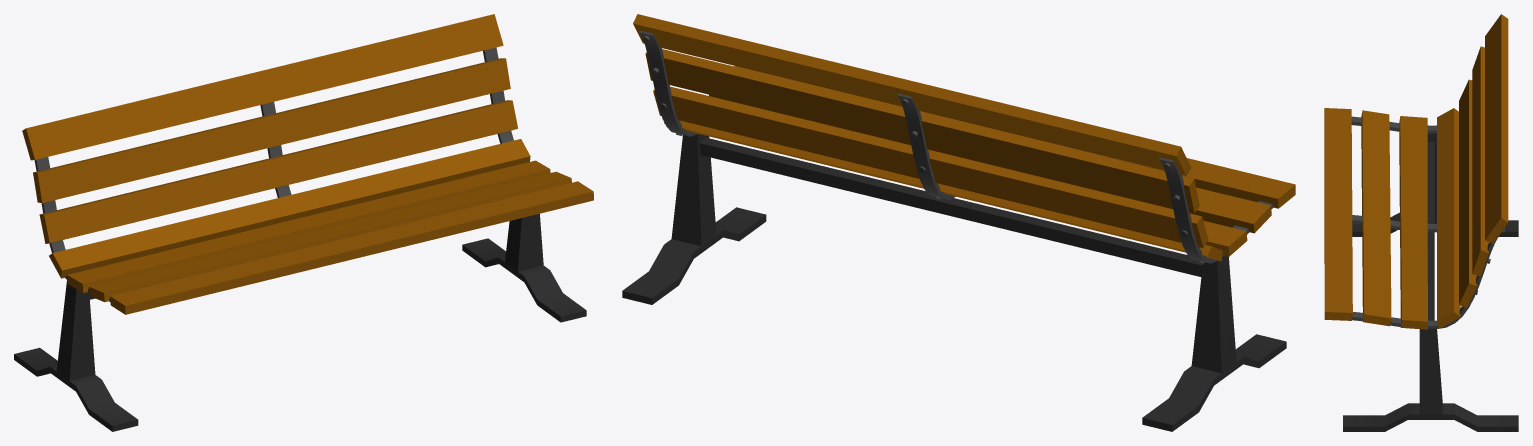
Rendered from Park_Bench.fbx.
3 views of the same model, side by side, from view 1: azimuth 30°, elevation 25°; view 2: azimuth 150°, elevation 25°; view 3: azimuth 270°, elevation 25° (orthographic). The views are drawn at different scales.
Parts seen in each view (by area): view 1: Park_Bench; view 2: Park_Bench; view 3: Park_Bench.
Part boxes in pixels (box(x1,y1,x2,y2)): Park_Bench: box(14, 14, 593, 431); Park_Bench: box(622, 14, 1295, 431); Park_Bench: box(1324, 14, 1518, 431).
Bounding box in the file's own units: 10.58 × 4.21 × 5.08.
